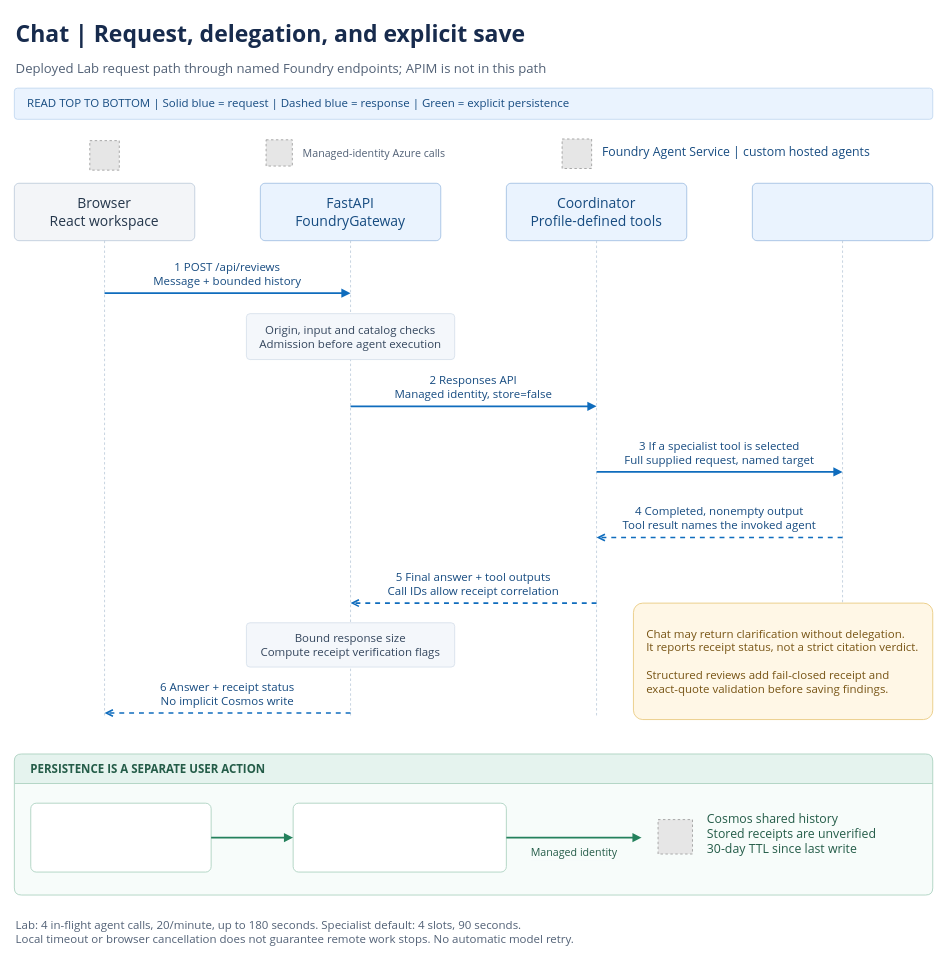
This 947x971 diagram has some shape labels left out. Grey dashed boxes stand in for pictures. The shapes that lost their labels are listed below. From the top down, each one's centre as x and y in pixels, then its label:
[842,211]: Specialist Application or case
[120,837]: 7 Explicit Save Completed exchanges
[399,837]: History API /api/conversations Create or conditional update
